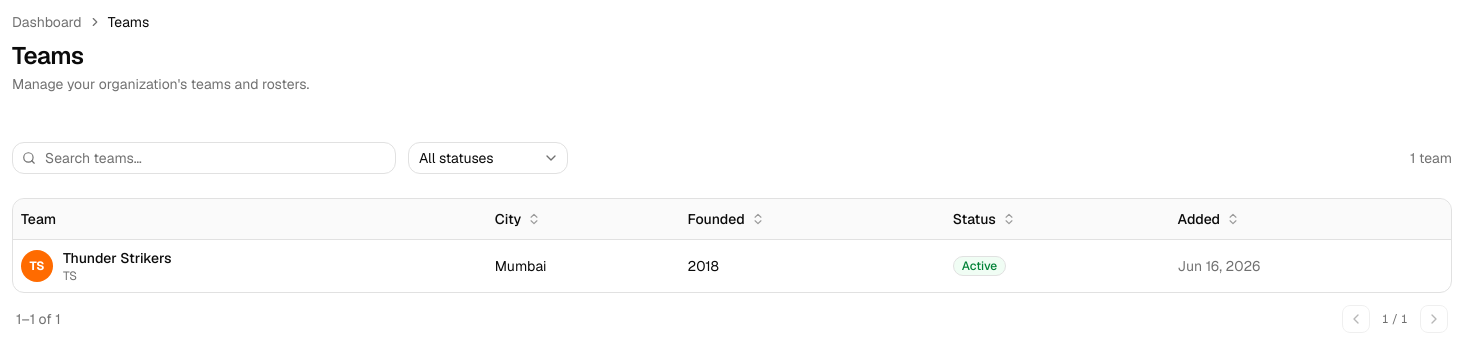
Test: TeamsPage — clear filters › hides Clear button when filters are reset
This screenshot has width=1464, height=350.
Expected: the text "Thunder Strikers" is shown, [63,248,171,268]
Type "t" into the field labelled "Search teams…" at (204, 158), box [12,142,396,174]
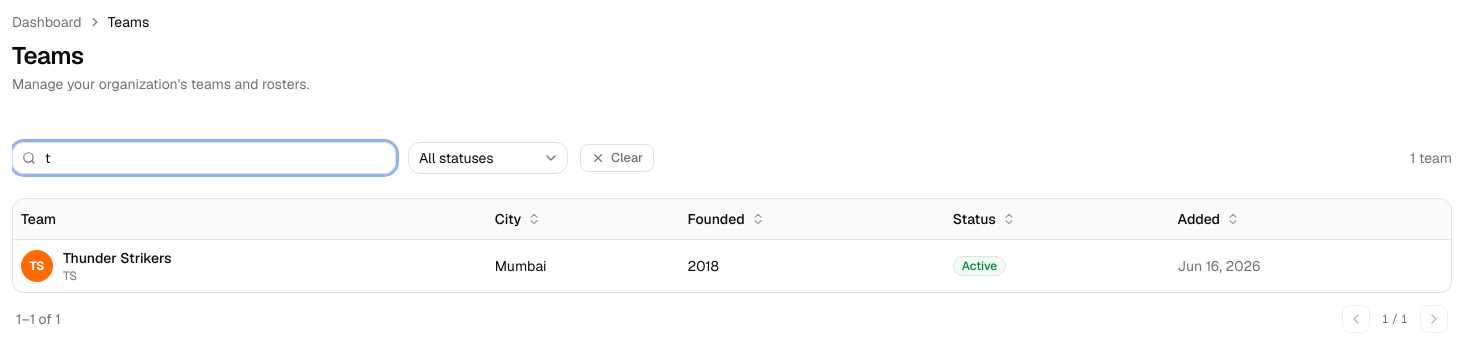
Now the button "Clear" is shown
Click the button "Clear" at (617, 158), box [580,144,654,172]
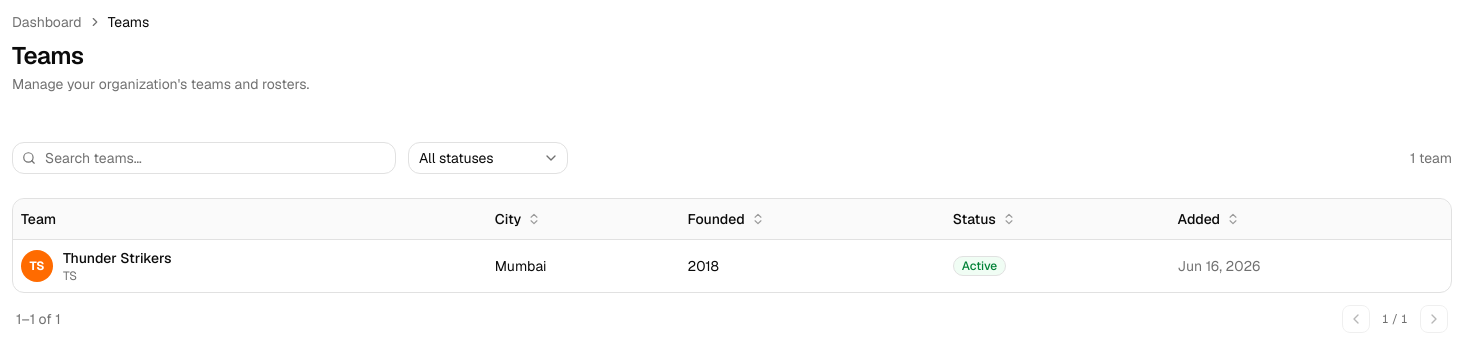
Now the button "Clear" is gone
